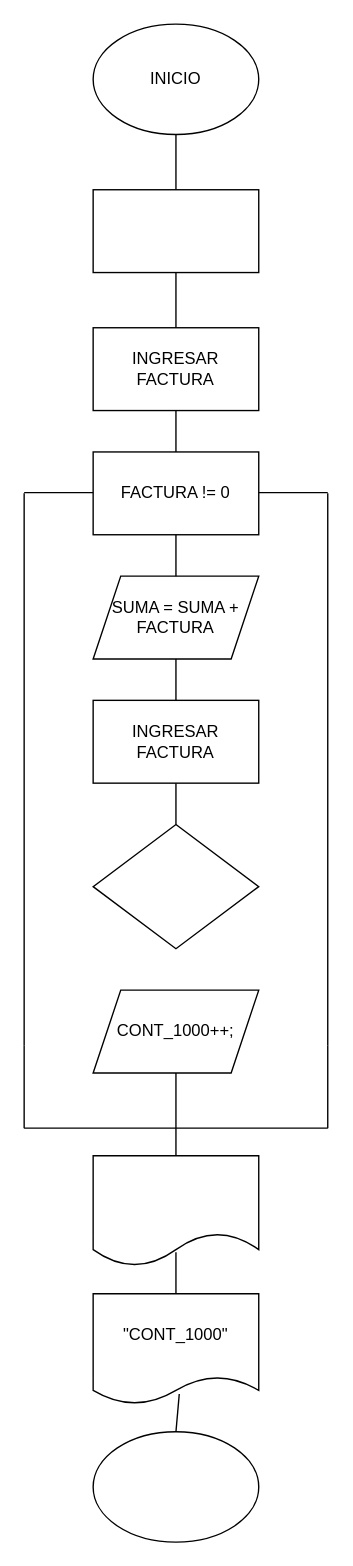
This 353x1566 diagram has some shape labels left out. Here are the shapes that lost their labels. From the top down, the centre of each, then its label:
(175,230): FACTURA = 0; SUMA = 0; CONT _1000= 0;
(175,886): FACTURA>=1000
(175,1210): "SUMA"
(175,1486): FIN
